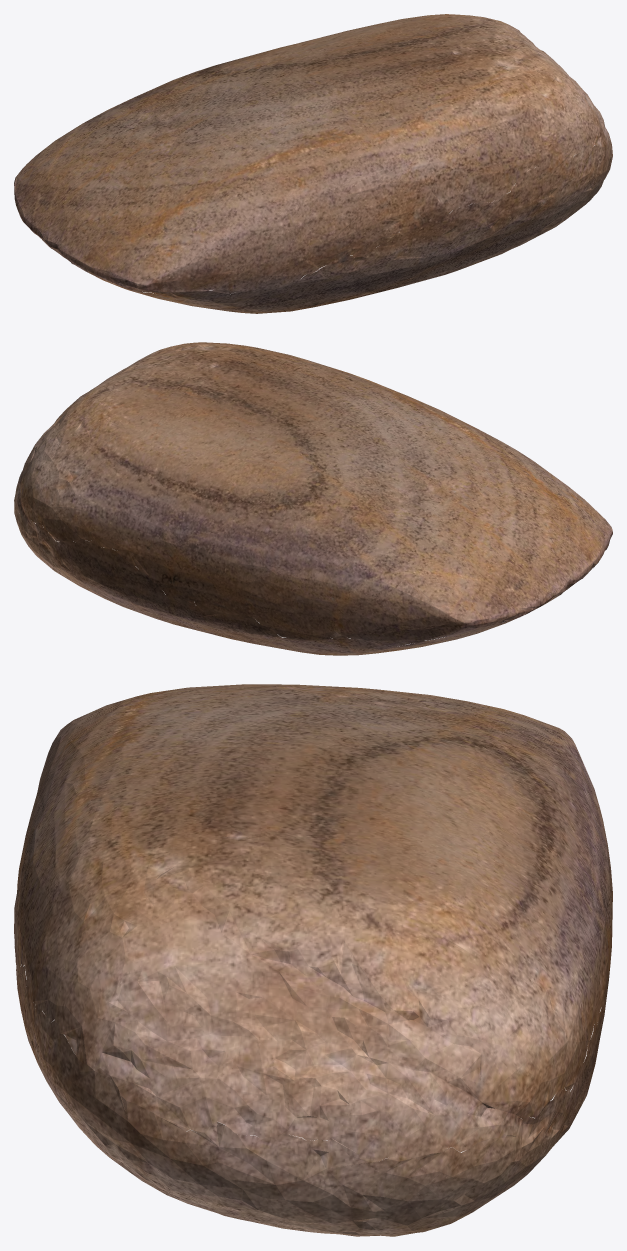
The model's file is Objeto_11_4k-b.glb.
3 renders of one model, top to bottom at view 1: azimuth 30°, elevation 25°; view 2: azimuth 150°, elevation 25°; view 3: azimuth 270°, elevation 25°, orthographic. The views are drawn at different scales.
Parts seen in each view (by area): view 1: Mesh_0; view 2: Mesh_0; view 3: Mesh_0.
Part boxes in pixels (bbox=[...]): Mesh_0: bbox=[14, 14, 612, 313]; Mesh_0: bbox=[14, 342, 612, 655]; Mesh_0: bbox=[14, 684, 612, 1236].
Bounding box in the file's own units: 0.0745 × 0.0286 × 0.0434.
Materials: 1 (1 with a texture image).
